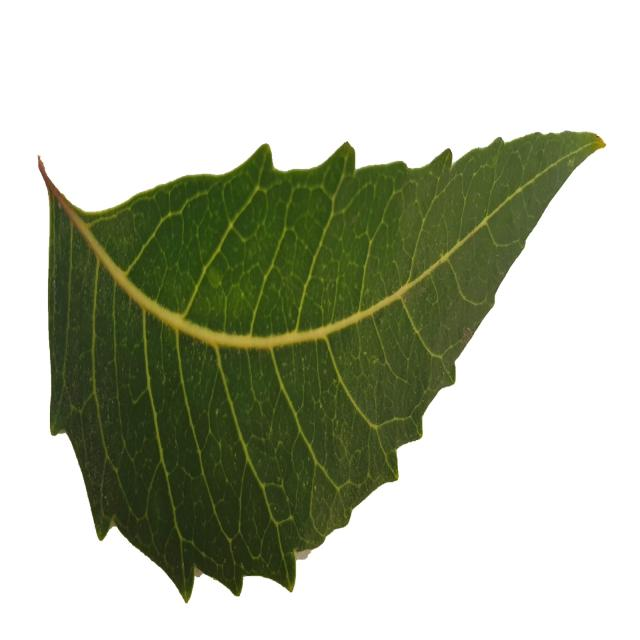Medicinal-Neem: (38, 123, 608, 601)
